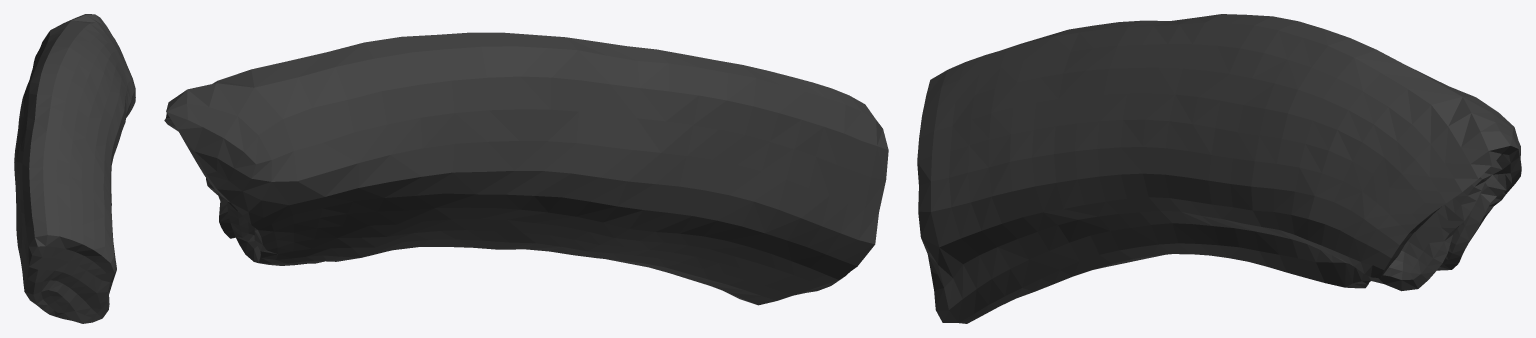
3 views of the same model, side by side, from view 1: azimuth 30°, elevation 25°; view 2: azimuth 150°, elevation 25°; view 3: azimuth 270°, elevation 25° (orthographic). The views are drawn at different scales.
Visible parts, largest first — view 1: world; view 2: world; view 3: world.
Part boxes in pixels (box(x1,y1,x2,y2)): world: box(14, 14, 135, 323); world: box(164, 32, 888, 305); world: box(917, 14, 1521, 323).
Bounding box in the file's own units: 0.3188 × 0.2496 × 0.3943.
1 material, 1 textured.
